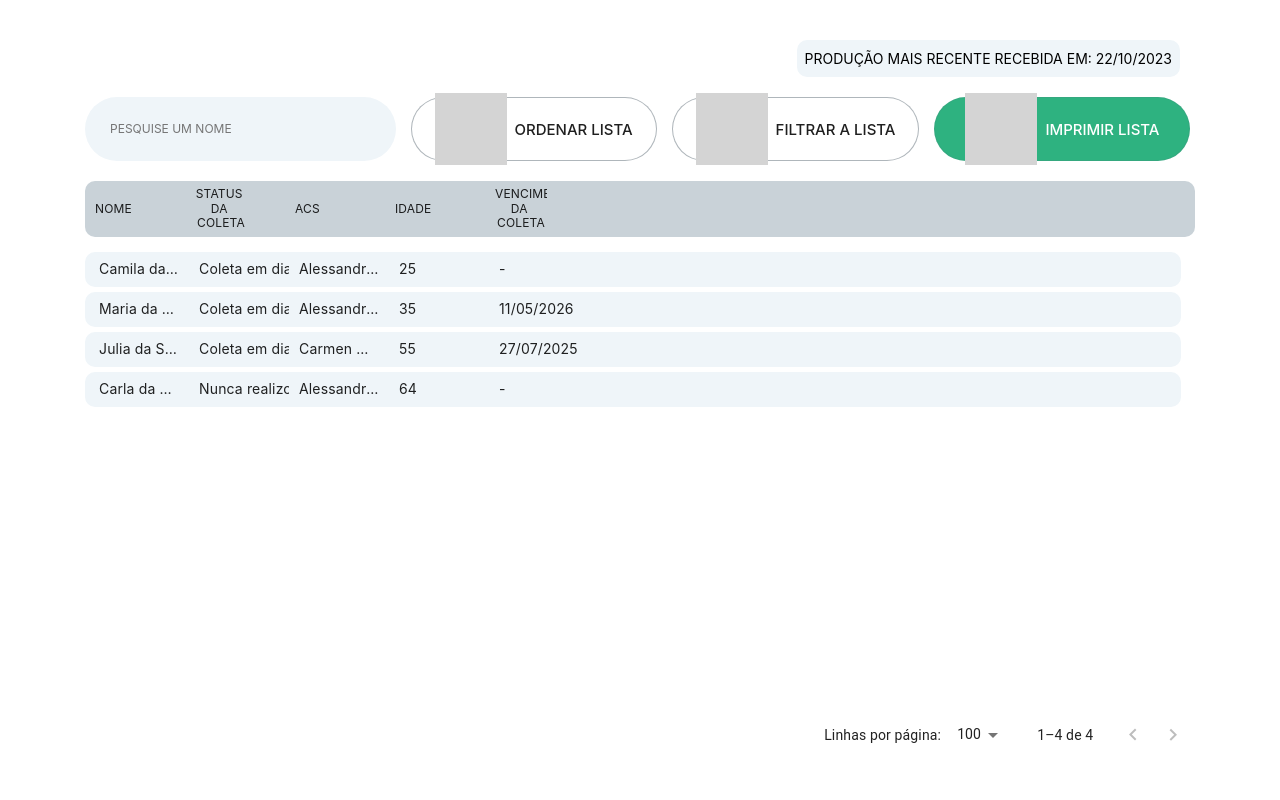
Test case: Ao clicar no botão Ordenar Lista › deve exibir o modal de ordenação
Click the button "ORDENAR LISTA".
click(534, 129)  # box [410,97,657,161]
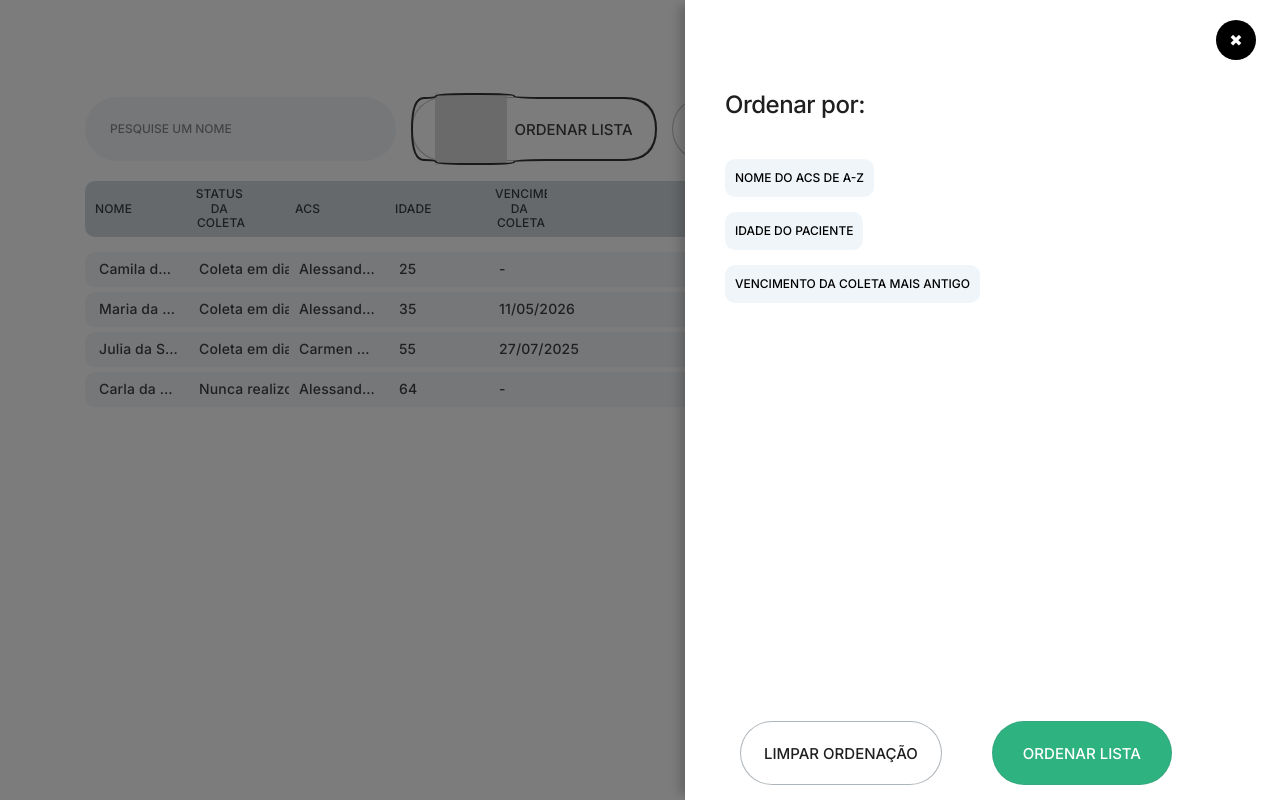
Check: the element with test id "Modal" is shown, box [685,0,1279,799]
Check: the element with test id "Ordenar" is shown, box [725,90,980,303]
